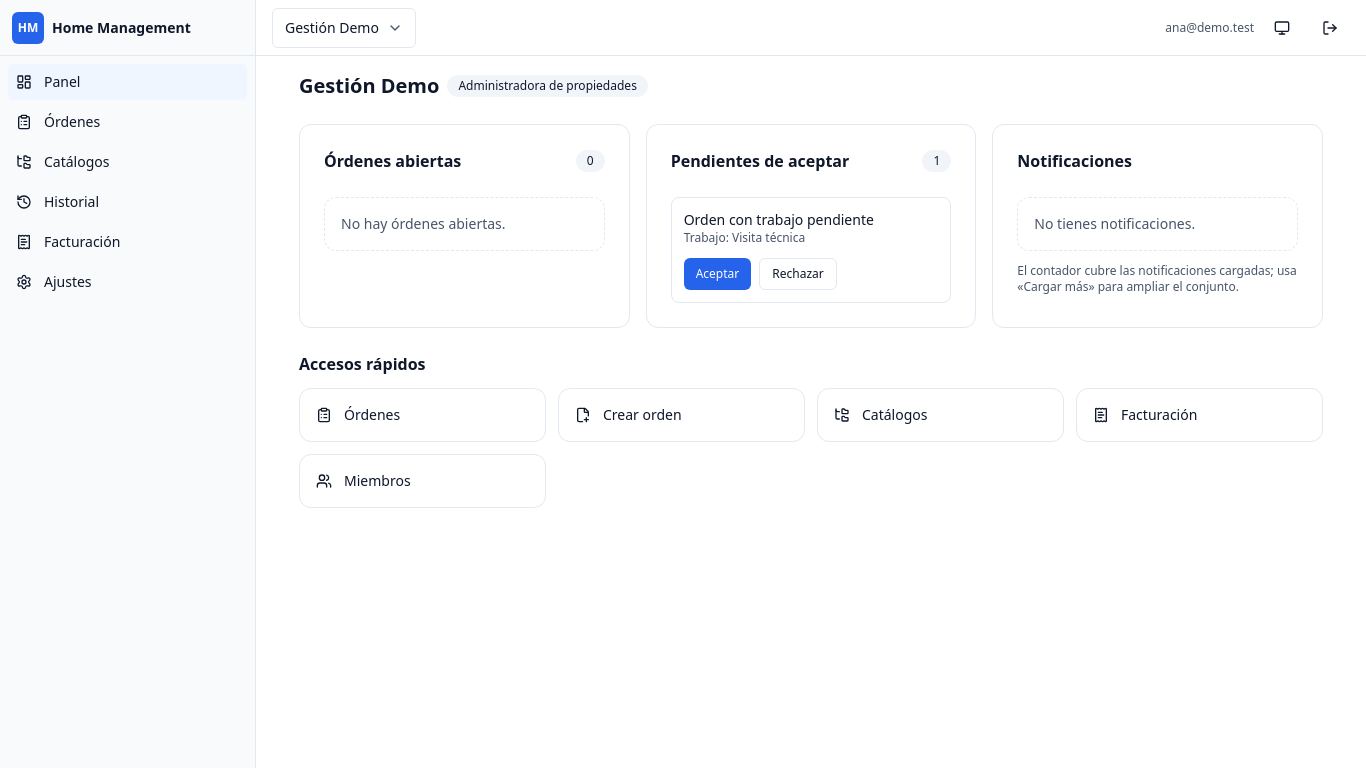
Test: dashboard screen (spec F2) › surfaces the RFC 7807 detail when the server answers 409 (AC-F2.6)
Click the button with aria-label "Rechazar: Orden con trabajo pendiente" at (798, 274), box [759, 258, 837, 290]
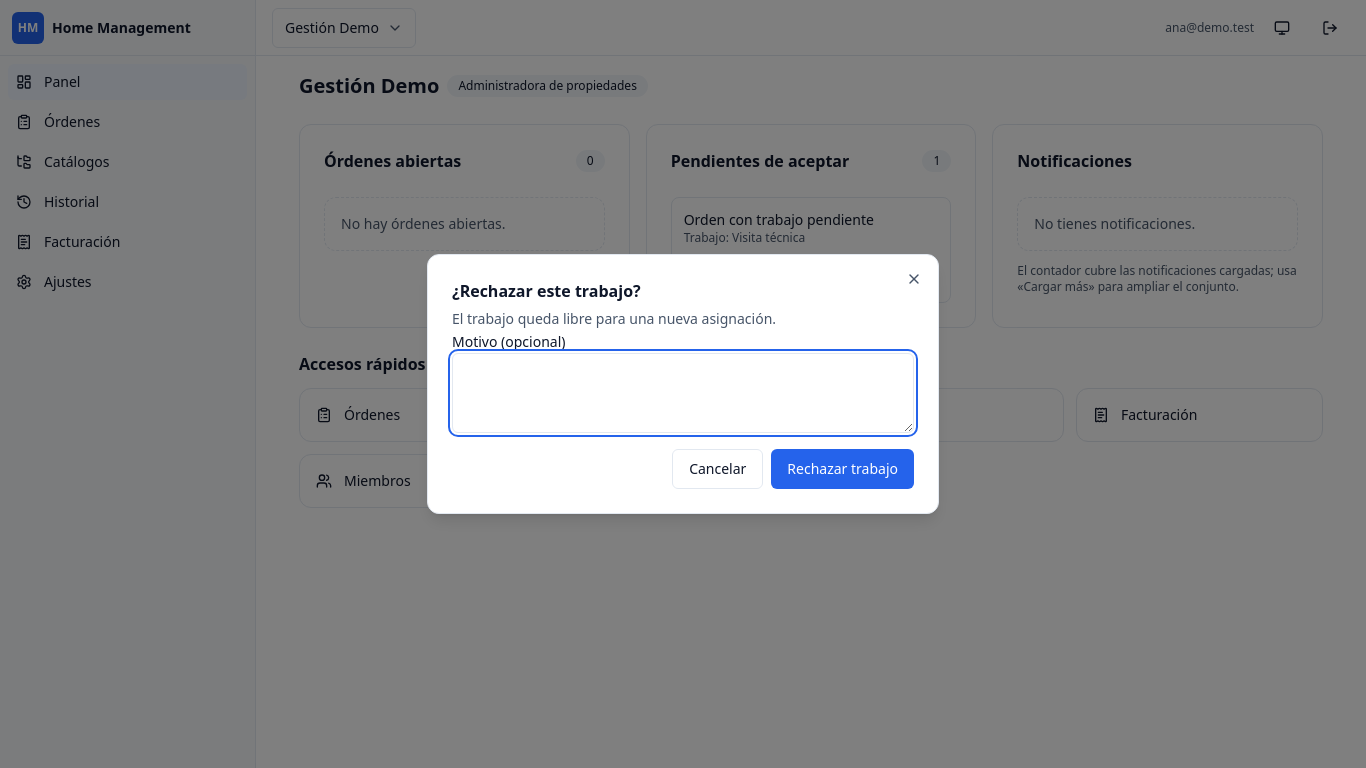
Click the button "Rechazar trabajo" at (843, 469), box [771, 449, 914, 489]
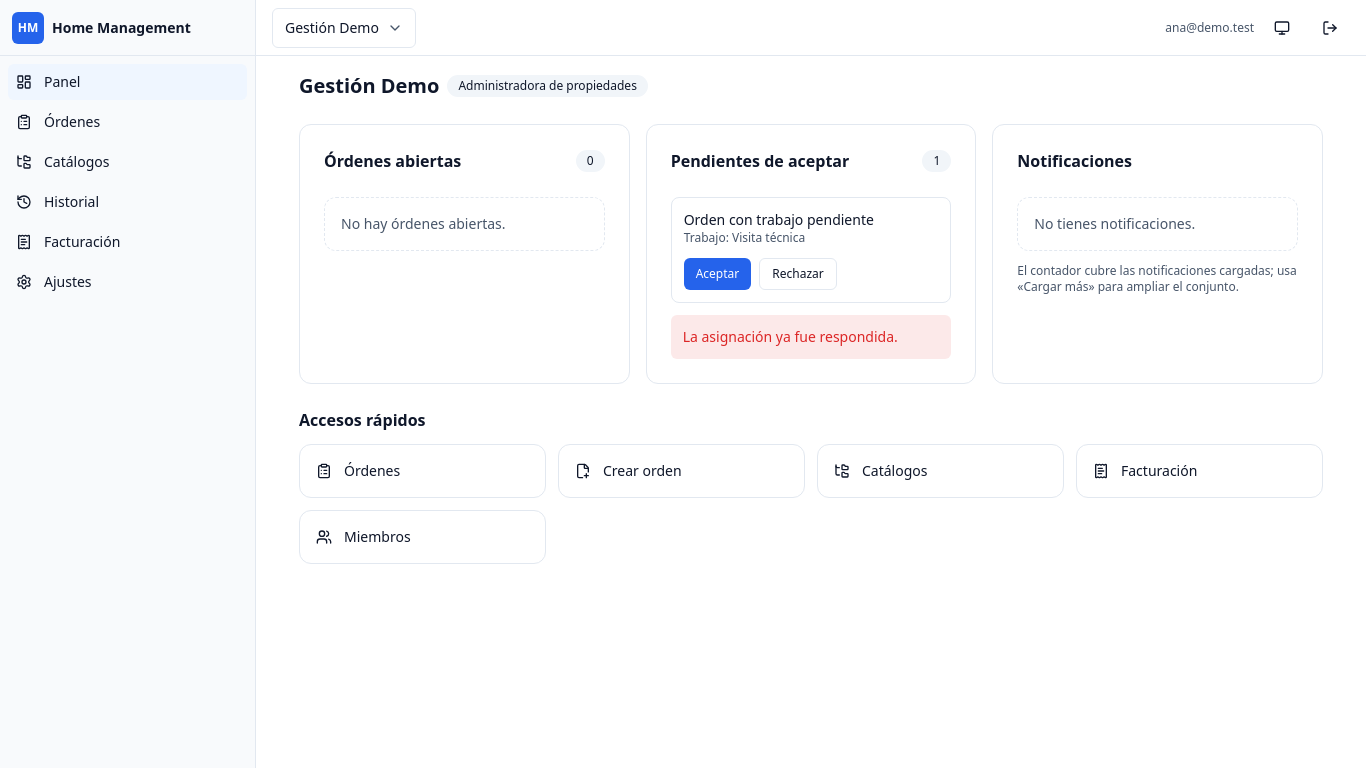
Expected: the text "La asignación ya fue respondida." is shown, [671, 315, 951, 359]
